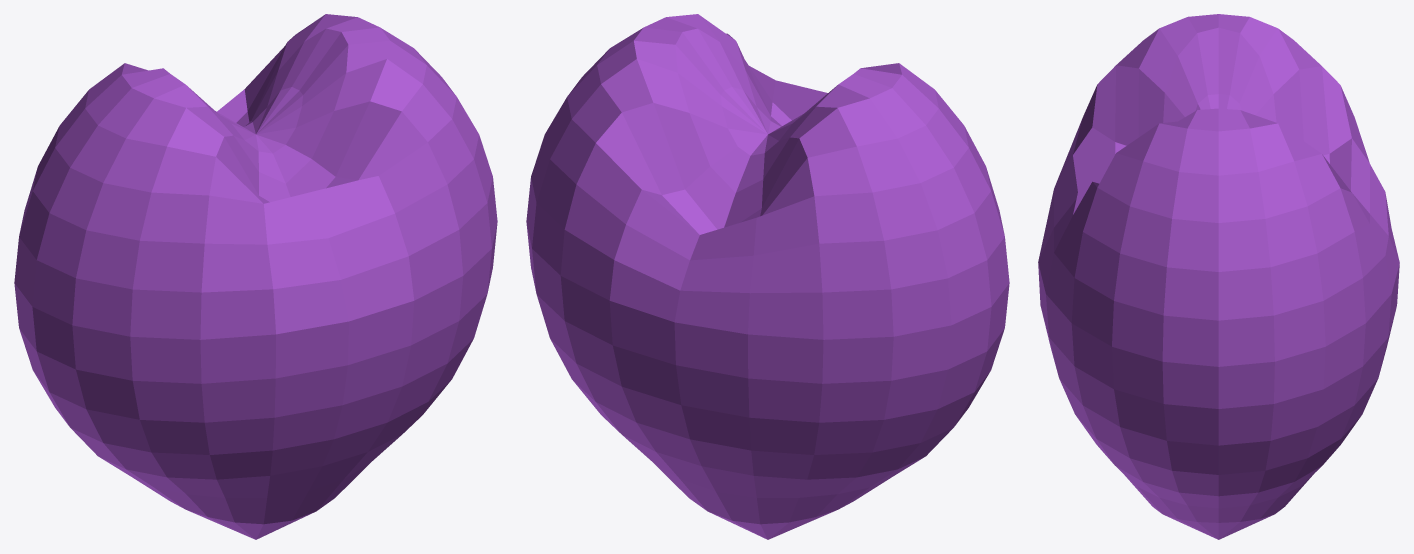
File: heart.fbx
The picture shows the model from 3 angles, left to right: view 1: azimuth 30°, elevation 25°; view 2: azimuth 150°, elevation 25°; view 3: azimuth 270°, elevation 25°; orthographic projection. The views are drawn at different scales.
Parts seen in each view (by area): view 1: Sphere; view 2: Sphere; view 3: Sphere.
Part boxes in pixels (<box>): Sphere: <box>14,14,497,539</box>; Sphere: <box>526,14,1009,539</box>; Sphere: <box>1038,14,1399,539</box>.
Size of the model in its own units: 200 by 208 by 145.
